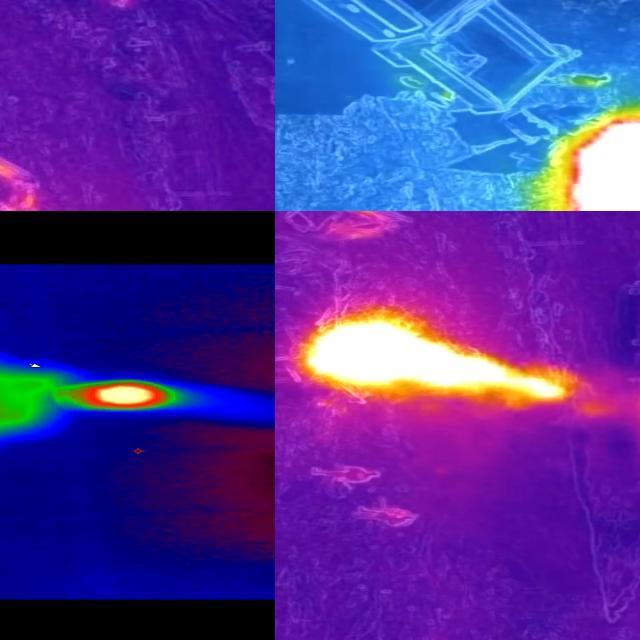fire: (296, 312, 580, 405), (547, 107, 640, 212), (54, 377, 188, 411)
